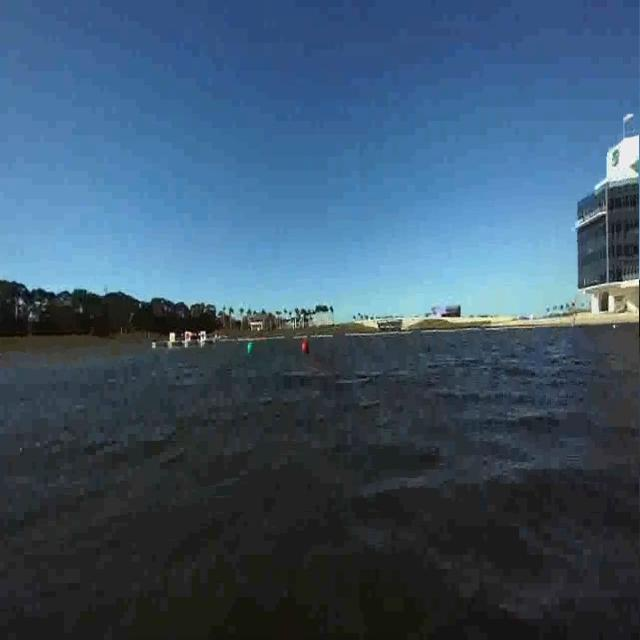green-buoy: (241, 334, 256, 362)
red-buoy: (298, 343, 317, 358)
